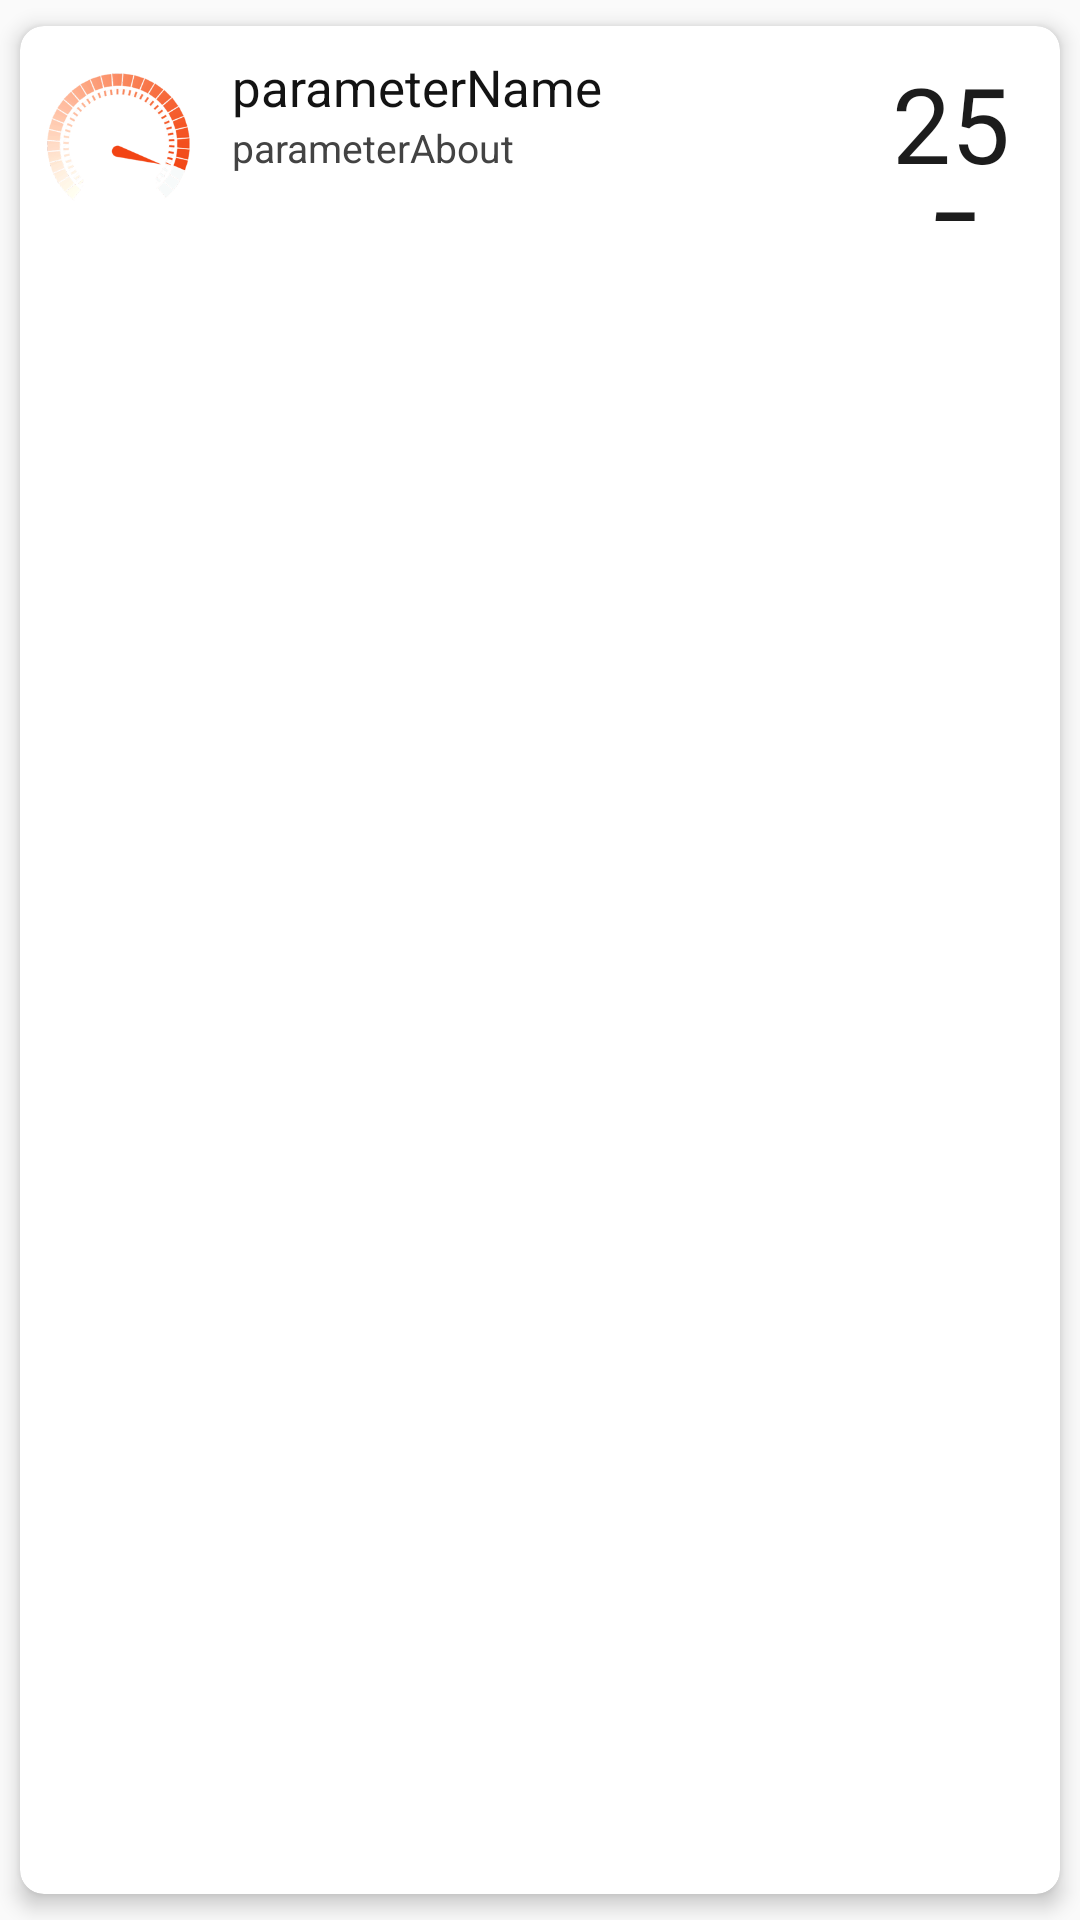

Icon click points for this 1080×1920 phone screenshot, format (x=x, y=y):
speed max: (x=118, y=127)
